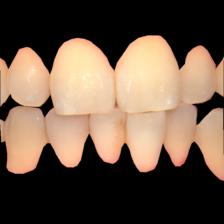cavity: (120, 120, 132, 144), (191, 122, 200, 144)
tooth: (118, 35, 181, 111), (54, 37, 116, 114), (5, 108, 46, 175), (9, 47, 51, 107), (178, 39, 216, 105), (127, 114, 167, 173), (44, 115, 87, 168), (89, 115, 129, 166), (199, 108, 224, 183), (165, 110, 197, 168)
